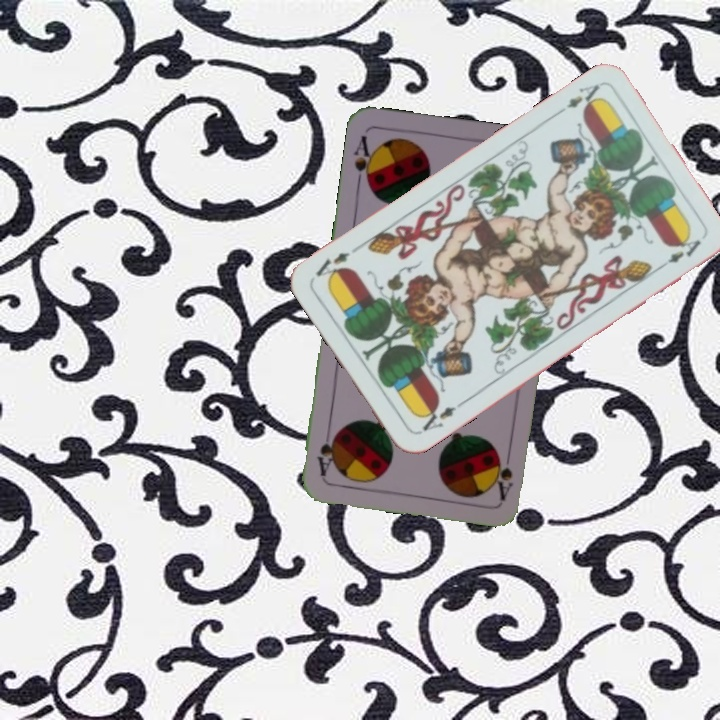EA: (551, 80, 605, 118), (414, 397, 465, 434)
SA: (350, 132, 378, 190), (492, 443, 516, 502)
